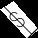Switch: (0, 1, 38, 38)
